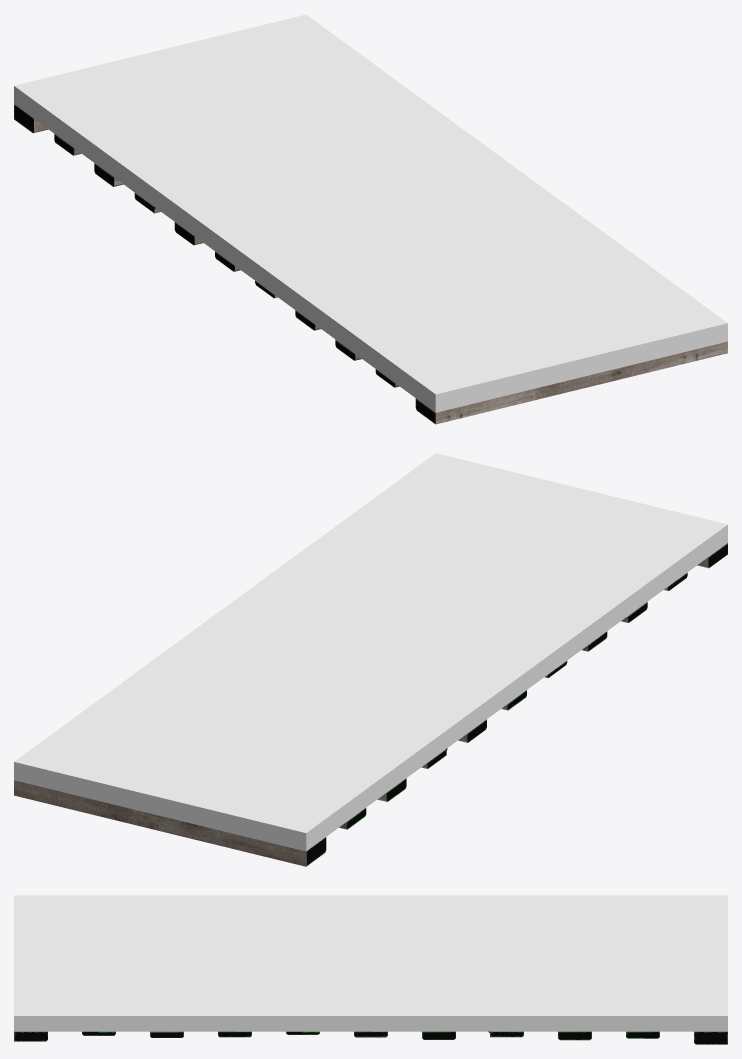
Rendered from ceiling.FBX.
The picture shows the model from 3 angles, top to bottom: view 1: azimuth 30°, elevation 25°; view 2: azimuth 150°, elevation 25°; view 3: azimuth 270°, elevation 25°; orthographic projection. The views are drawn at different scales.
Parts seen in each view (by area): view 1: Box001; view 2: Box001; view 3: Box001.
Part boxes in pixels (<box>): Box001: <box>14,14,727,424</box>; Box001: <box>14,453,727,866</box>; Box001: <box>14,895,727,1044</box>.
Bounding box in the file's own units: 157 × 17.33 × 394.
1 material, 1 textured.
